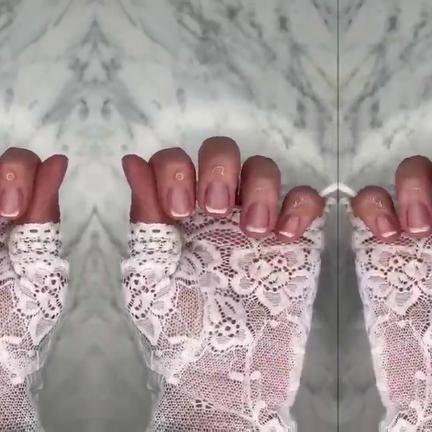Nail: (204, 181, 228, 213), (245, 202, 268, 233), (406, 202, 429, 233), (166, 185, 188, 217), (0, 185, 22, 217), (278, 214, 298, 237), (376, 214, 396, 237)
